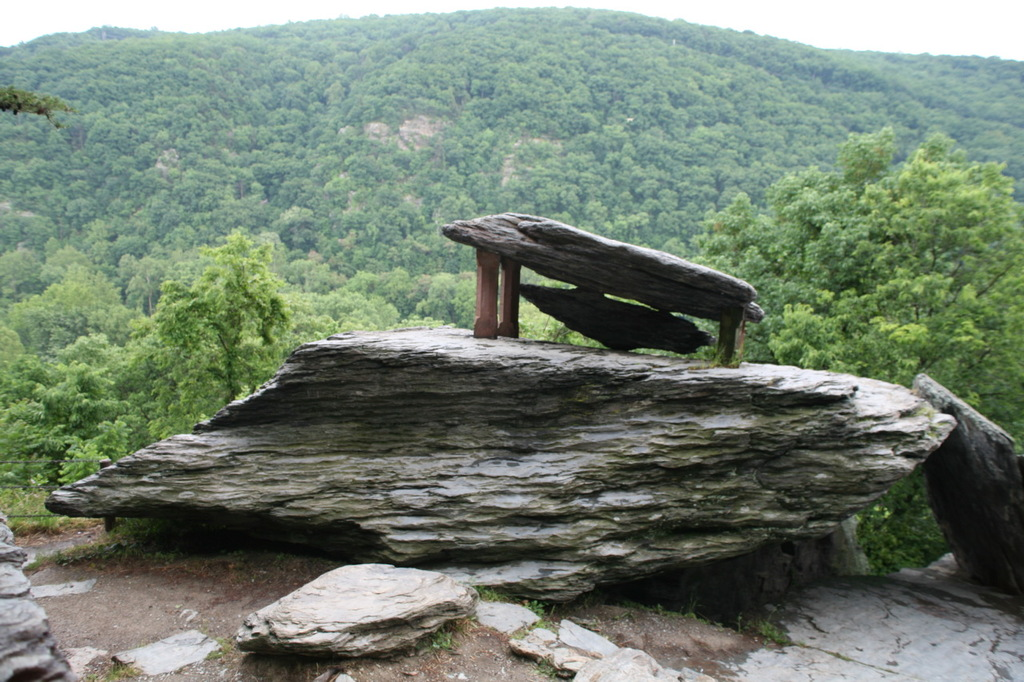Tree: (0, 2, 1024, 582)
